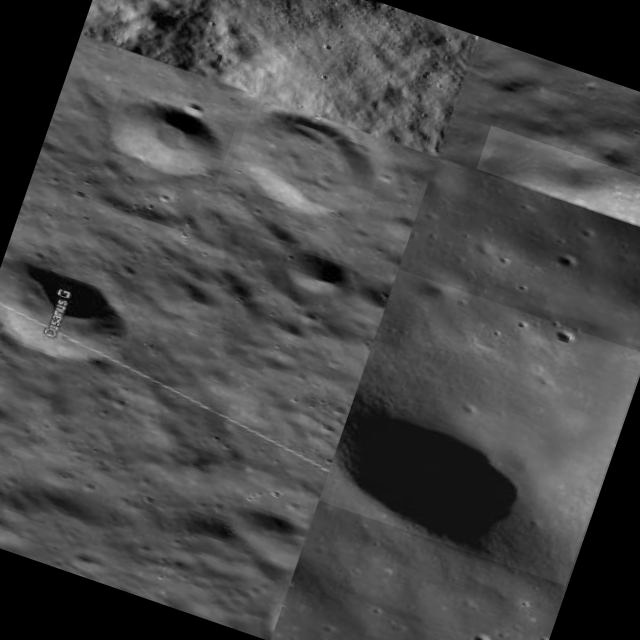crater: (318, 269, 640, 585), (226, 94, 391, 228), (476, 125, 640, 240), (0, 251, 141, 374), (101, 88, 235, 188), (281, 244, 358, 304)
